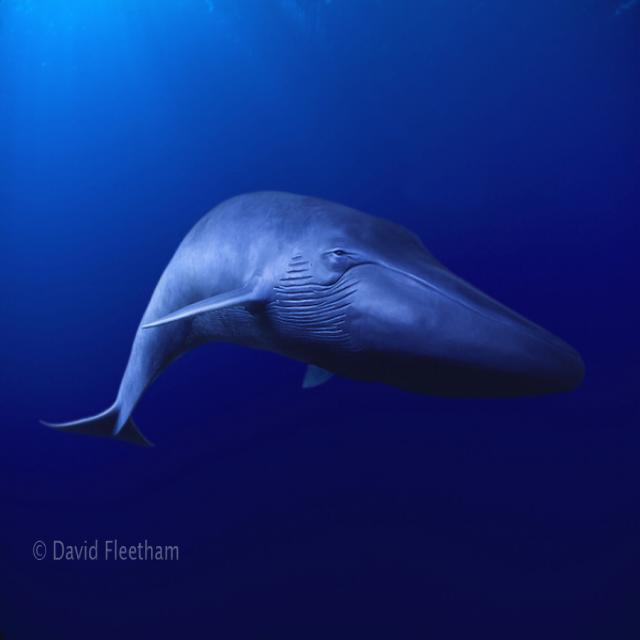blue_whale: (31, 150, 598, 492)
